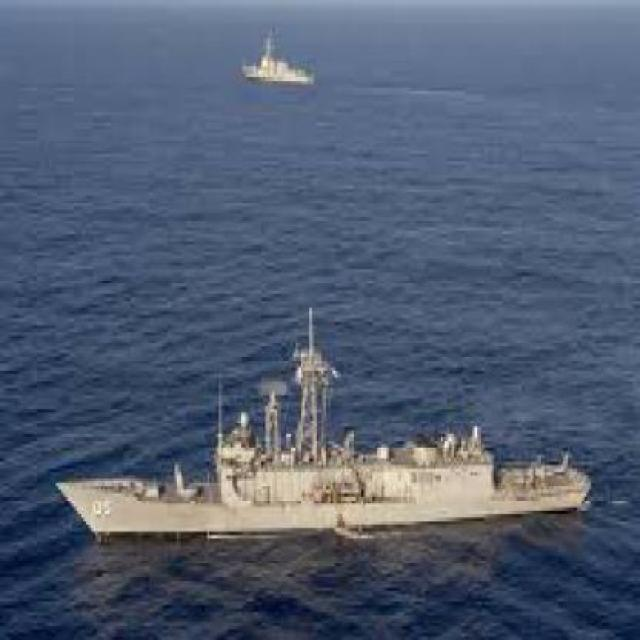warship2: (40, 368, 599, 560), (232, 19, 327, 96)
